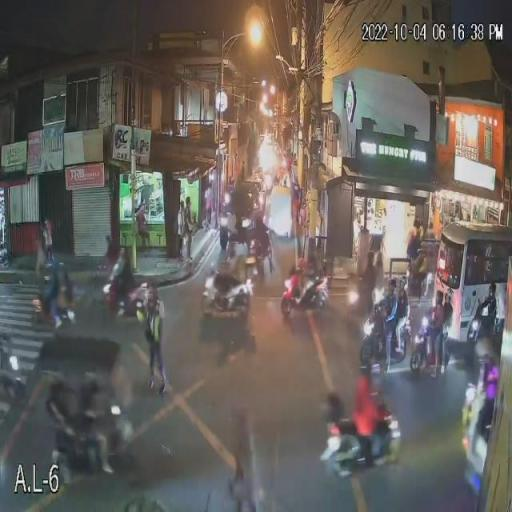helmet: (360, 360, 373, 373), (296, 256, 307, 266), (384, 279, 394, 289), (480, 307, 490, 317), (434, 291, 443, 301), (111, 245, 121, 254), (398, 278, 407, 287)
motorcycle: (320, 405, 402, 473), (359, 306, 408, 372), (94, 275, 153, 320), (280, 269, 330, 320), (34, 278, 79, 332), (410, 314, 444, 377), (467, 307, 498, 360)
rider: (352, 358, 386, 458), (372, 280, 398, 354), (467, 282, 496, 342), (288, 245, 318, 302), (104, 244, 129, 310), (40, 258, 66, 320), (425, 290, 447, 363)
